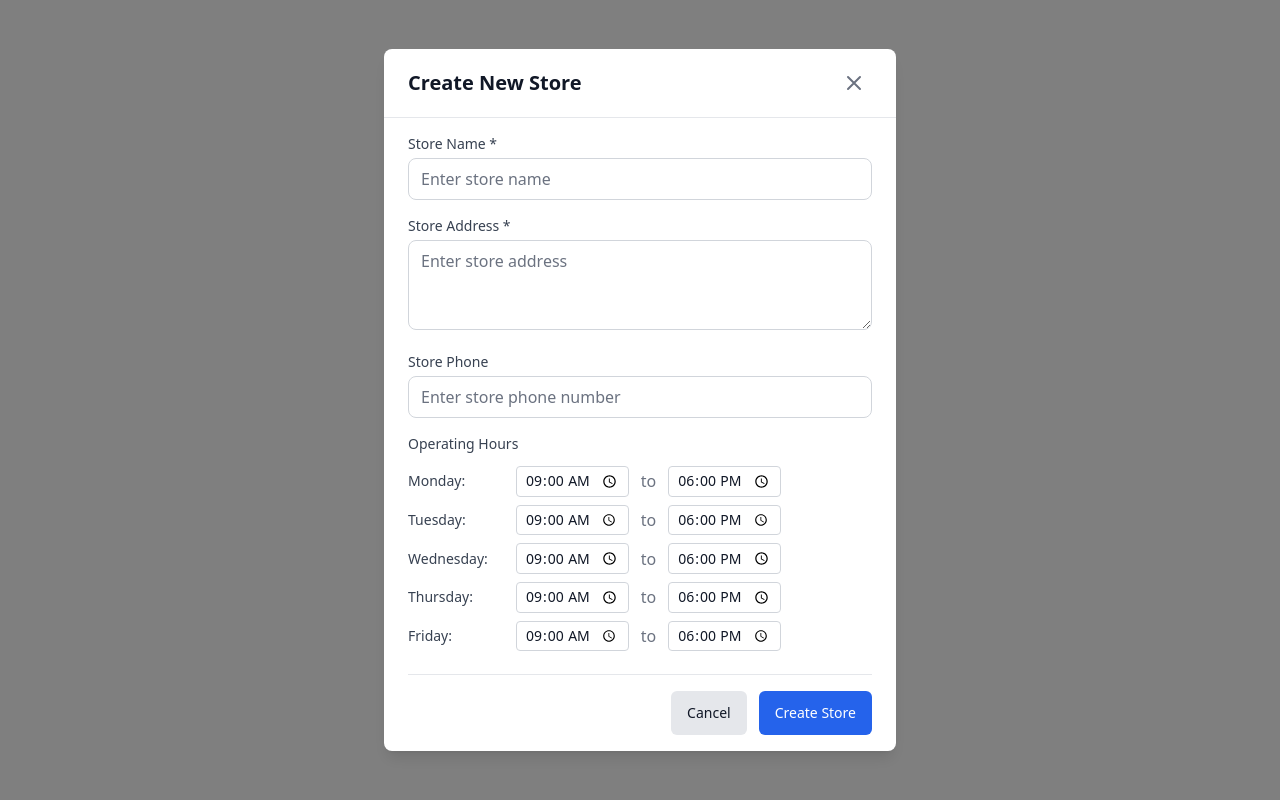
Test: StoreModal Component (Task 52) › Form Validation (Requirement 10.2) › should show error when store address is empty
Type "Test Store" into the field with placeholder "Enter store name" at (640, 179), box x1=408 y1=158 x2=872 y2=200
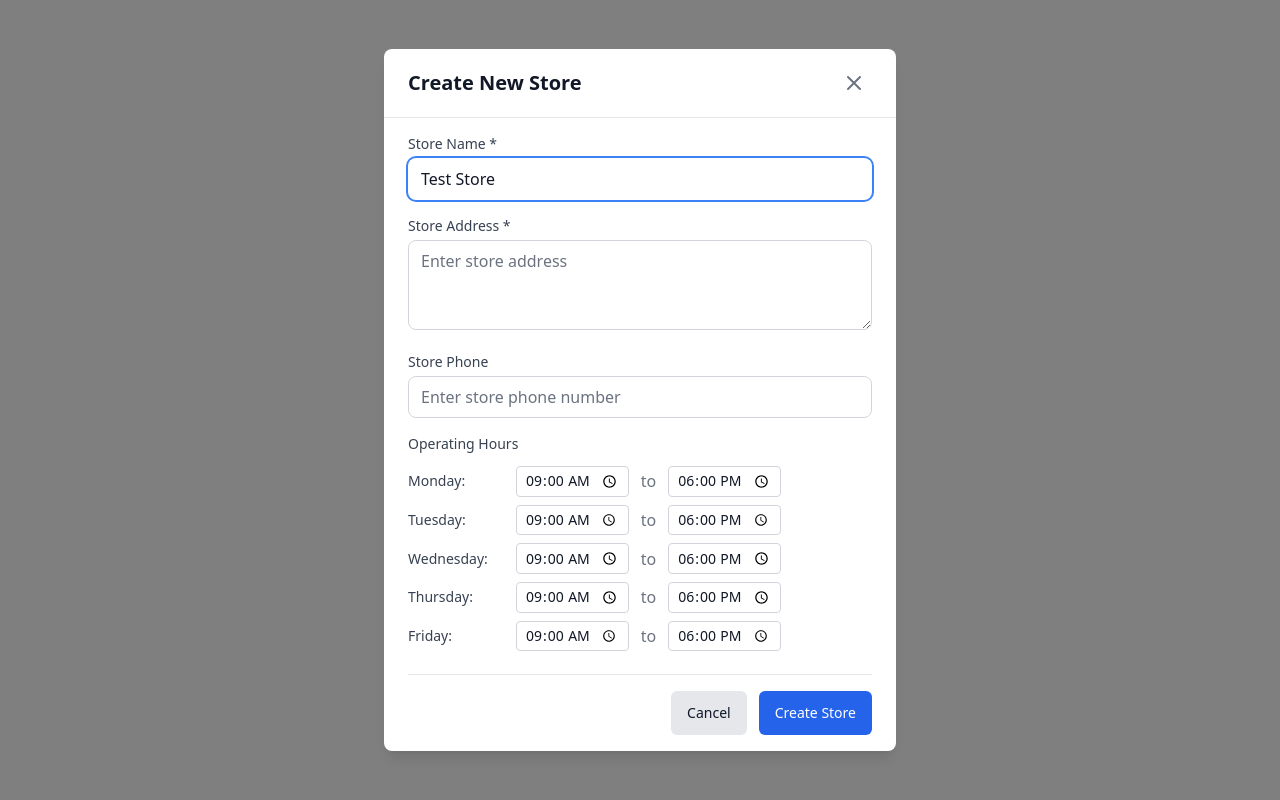
Click the button "Create Store" at (815, 713), box x1=759 y1=691 x2=872 y2=735
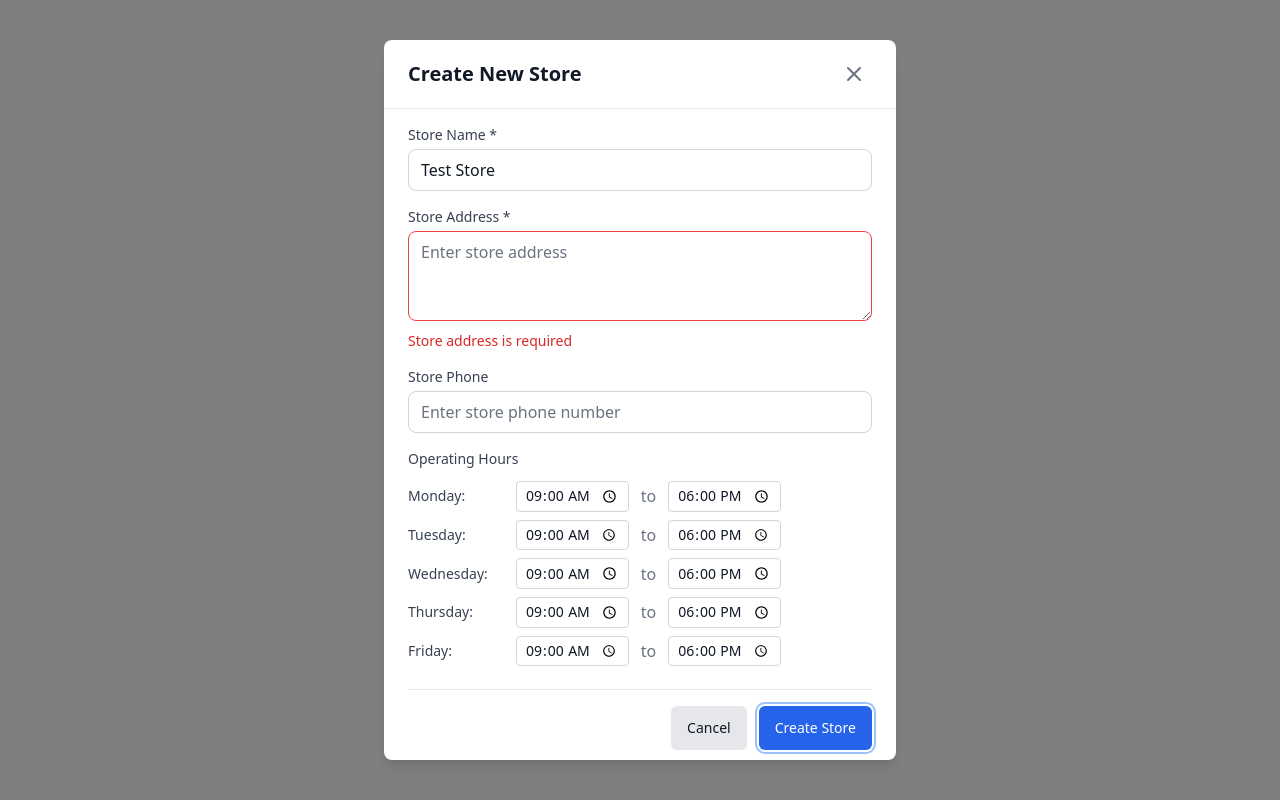
Check: the text "Store address is required" is shown, box x1=408 y1=331 x2=572 y2=350
